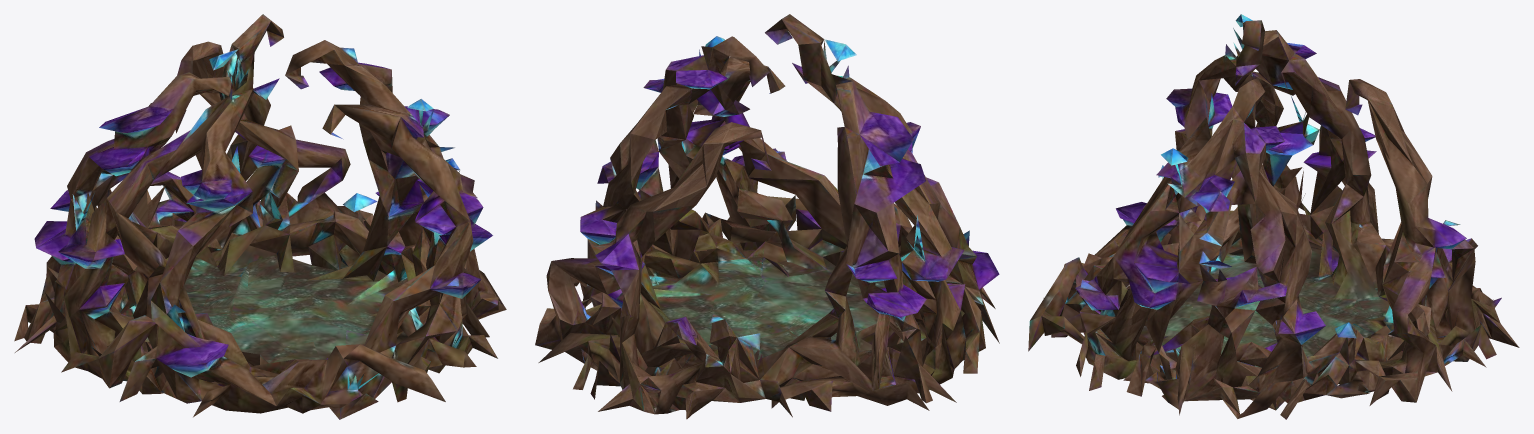
The model's file is cage-3.glb.
3 views of the same model, side by side, from view 1: azimuth 30°, elevation 25°; view 2: azimuth 150°, elevation 25°; view 3: azimuth 270°, elevation 25° (orthographic). The views are drawn at different scales.
Size of the model in its own units: 1.91 by 1.36 by 2.
1 material, 1 textured.
